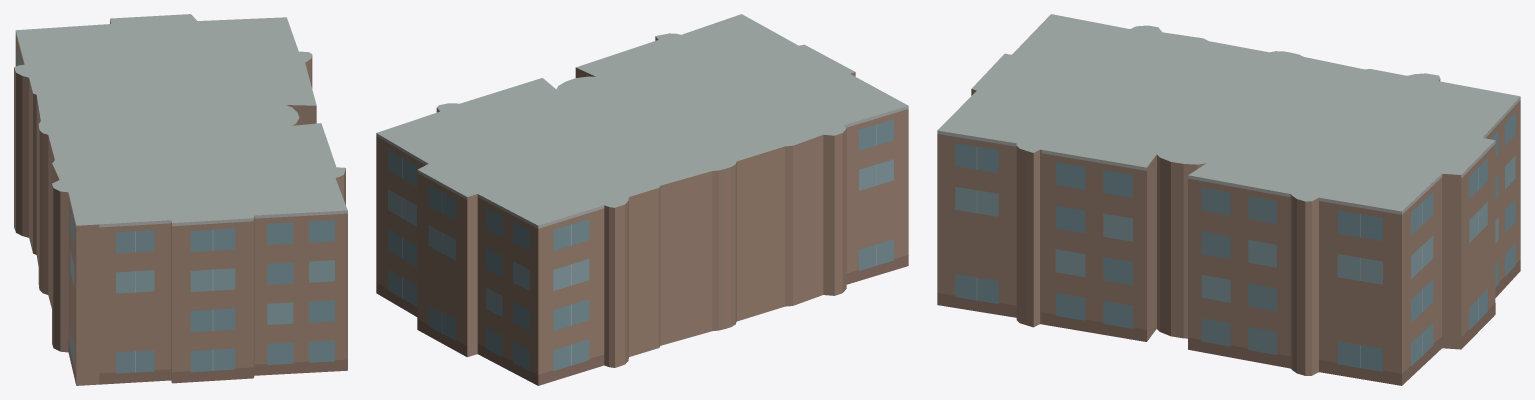
Rendered from survey-upis-32527616.glb.
The picture shows the model from 3 angles, left to right: view 1: azimuth 30°, elevation 25°; view 2: azimuth 150°, elevation 25°; view 3: azimuth 270°, elevation 25°; orthographic projection. The views are drawn at different scales.
Parts seen in each view (by area): view 1: survey-upis-32527616.tmp; view 2: survey-upis-32527616.tmp; view 3: survey-upis-32527616.tmp.
Boxes of the visible parts, x1,y1,x2,y2 form: survey-upis-32527616.tmp: [14, 14, 347, 385]; survey-upis-32527616.tmp: [376, 14, 908, 385]; survey-upis-32527616.tmp: [937, 14, 1520, 385].
Bounding box in the file's own units: 30.71 × 12.65 × 38.35.
